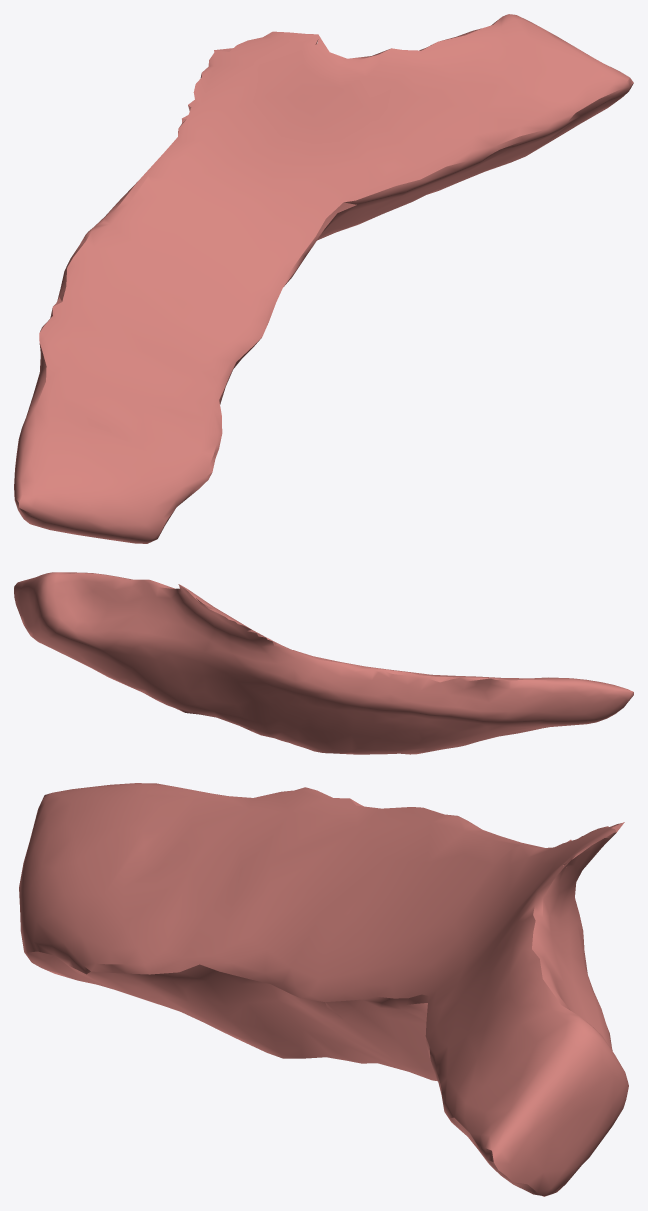
File: fma299389_mm1786m.glb
The picture shows the model from 3 angles, top to bottom: view 1: azimuth 30°, elevation 25°; view 2: azimuth 150°, elevation 25°; view 3: azimuth 270°, elevation 25°; orthographic projection. The views are drawn at different scales.
Visible parts, largest first — view 1: FMA299389_MM1786M; view 2: FMA299389_MM1786M; view 3: FMA299389_MM1786M.
Part boxes in pixels (box(x1,y1,x2,y2)): FMA299389_MM1786M: box(14, 14, 633, 543); FMA299389_MM1786M: box(14, 572, 633, 754); FMA299389_MM1786M: box(19, 783, 628, 1196).
Size of the model in its own units: 0.0607 by 0.0208 by 0.0316.
